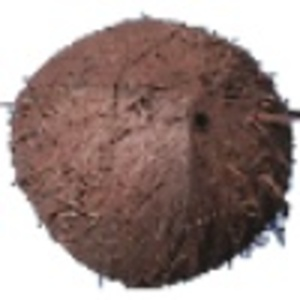coco: (7, 11, 300, 289)
